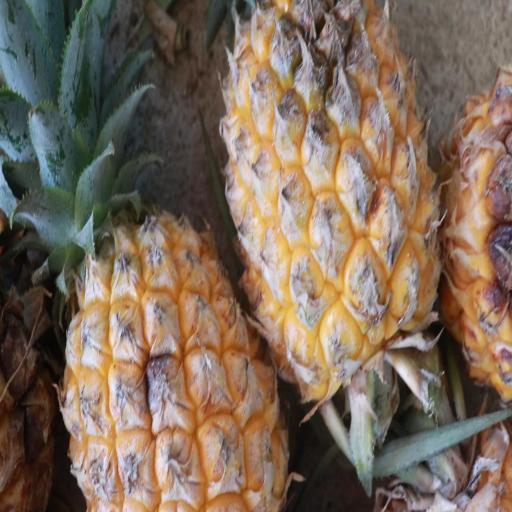Pineapple - v8 v1: (50, 0, 290, 512), (216, 0, 446, 421)
